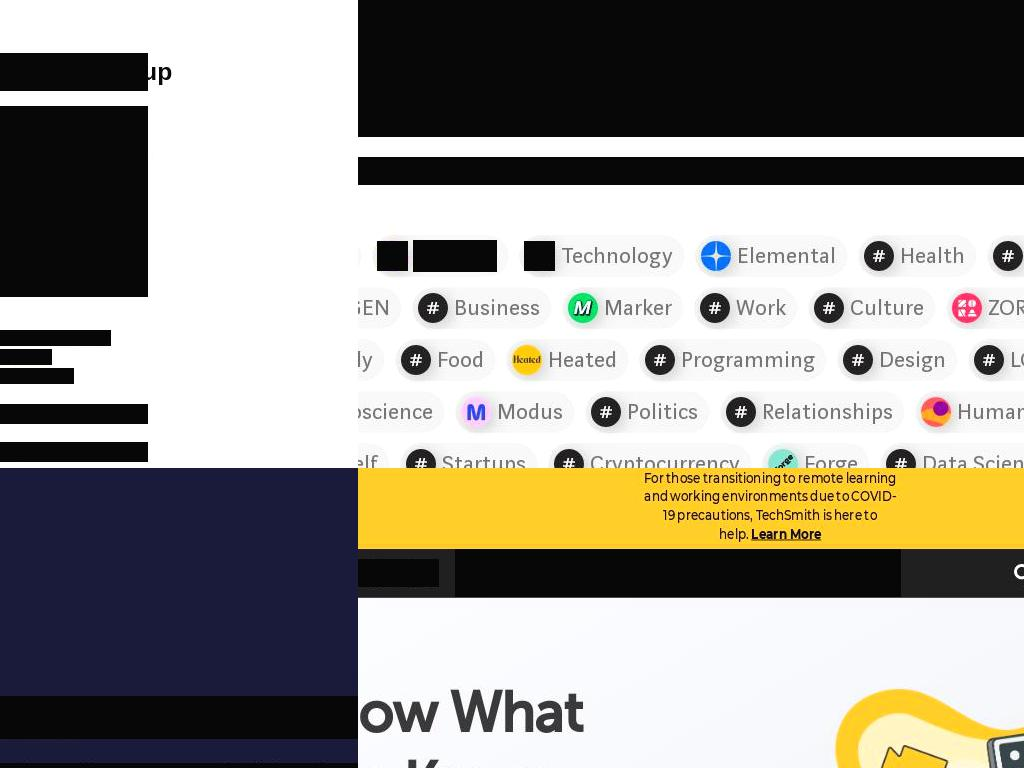button: (691, 549, 784, 597), (535, 549, 617, 597), (455, 549, 535, 597), (617, 549, 691, 597), (784, 549, 845, 597), (845, 549, 901, 597), (358, 559, 439, 587), (1000, 549, 1024, 597)
heading: (358, 0, 1024, 137), (358, 157, 1024, 185), (358, 679, 582, 748), (0, 696, 358, 739), (0, 53, 148, 91), (358, 749, 548, 768)
iframe: (358, 468, 1024, 549)
image: (358, 560, 439, 586), (377, 241, 408, 271), (524, 241, 555, 271), (700, 241, 731, 271), (863, 241, 894, 271), (992, 241, 1023, 271), (418, 293, 448, 323), (568, 293, 598, 323), (700, 293, 730, 323), (814, 293, 844, 323), (952, 293, 982, 323), (401, 345, 431, 375), (512, 345, 542, 375), (645, 345, 675, 375), (843, 345, 873, 375), (974, 345, 1004, 375), (461, 397, 491, 427), (591, 397, 621, 427), (726, 397, 756, 427), (921, 397, 951, 427), (405, 449, 436, 468), (553, 449, 584, 468), (767, 449, 798, 468), (885, 449, 916, 468)
link: (0, 368, 74, 384), (0, 349, 52, 365)
text: (0, 106, 148, 297), (681, 344, 815, 376), (762, 396, 893, 428), (560, 240, 673, 272), (736, 240, 836, 272), (589, 448, 740, 468), (0, 404, 148, 424), (0, 442, 148, 462), (454, 292, 540, 324), (413, 240, 497, 272), (358, 396, 433, 428), (850, 292, 924, 324), (627, 396, 698, 428), (548, 344, 617, 376), (604, 292, 672, 324), (879, 344, 946, 376), (957, 396, 1024, 428), (899, 240, 965, 272), (497, 396, 563, 428), (921, 448, 1024, 468), (0, 330, 111, 346), (441, 448, 526, 468), (736, 292, 786, 324), (437, 344, 484, 376), (988, 292, 1024, 324), (803, 448, 858, 468), (358, 292, 390, 324), (358, 448, 378, 468)
